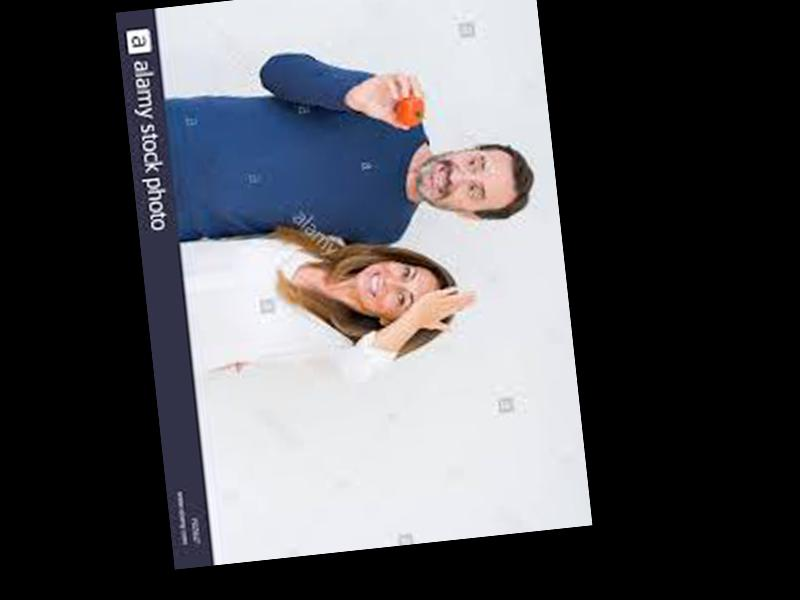Tomato: (395, 96, 429, 127)
